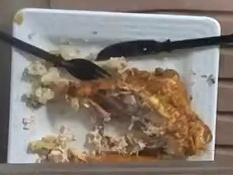chicken: (63, 68, 212, 155)
